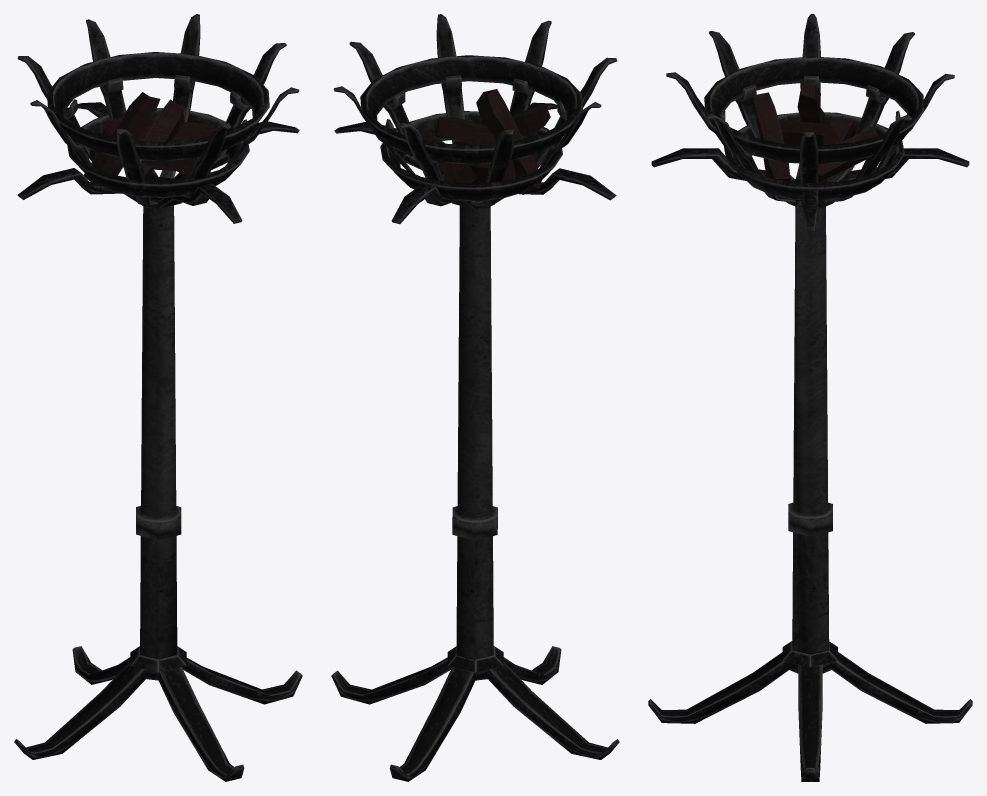
Rendered from torch.obj.
3 views of the same model, side by side, from view 1: azimuth 30°, elevation 25°; view 2: azimuth 150°, elevation 25°; view 3: azimuth 270°, elevation 25° (orthographic).
Parts seen in each view (by area): view 1: Torch; view 2: Torch; view 3: Torch.
Part boxes in pixels (bbox=[...]): Torch: bbox=[14, 14, 302, 781]; Torch: bbox=[331, 14, 619, 781]; Torch: bbox=[648, 14, 972, 781].
Bounding box in the file's own units: 830 × 1820 × 830.
